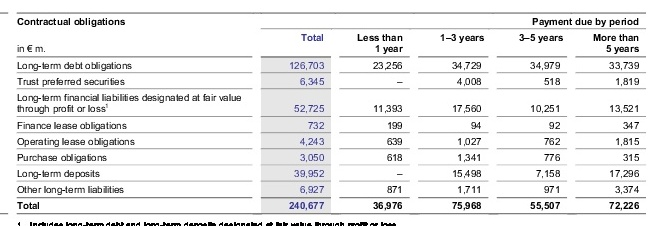table: (0, 0, 670, 226)
